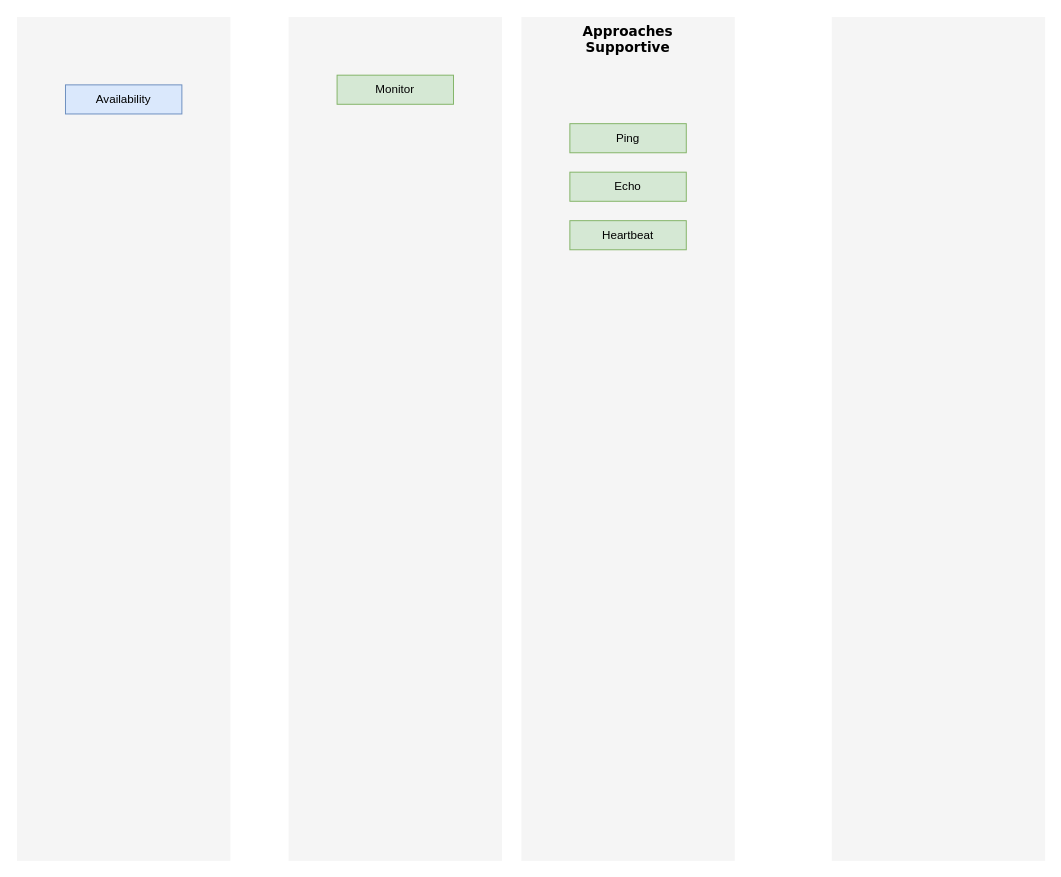
Some shapes in this 1061 by 877 pixel diagram are drawn without their labels. Here are the shapes that lost their labels. From the top down, the box of each, then its label:
(16, 16, 230, 860): Qualities
(288, 16, 501, 860): Approaches Required
(831, 16, 1045, 860): Qualities negatively affected
